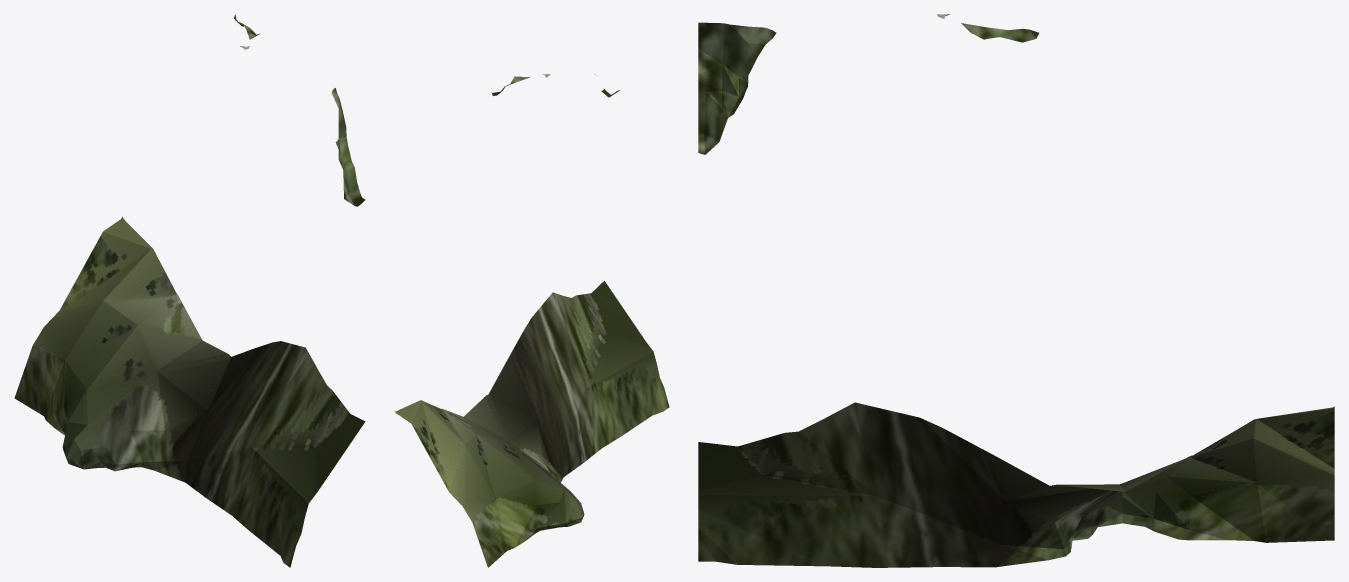
The picture shows the model from 3 angles, left to right: view 1: azimuth 30°, elevation 25°; view 2: azimuth 150°, elevation 25°; view 3: azimuth 270°, elevation 25°; orthographic projection. The views are drawn at different scales.
Size of the model in its own units: 0.9593 by 2.95 by 2.95.
Materials: 1 (1 with a texture image).
